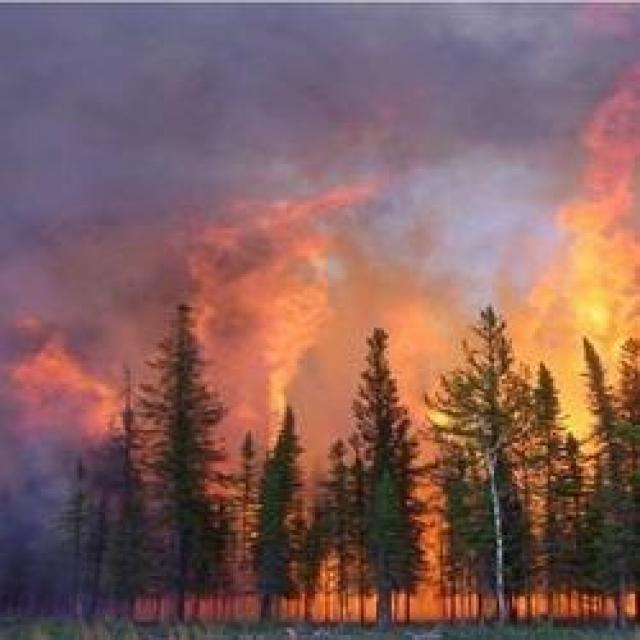fire: (230, 180, 328, 464)
